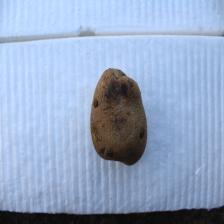Diseased-fungal potato: (90, 66, 147, 168)
